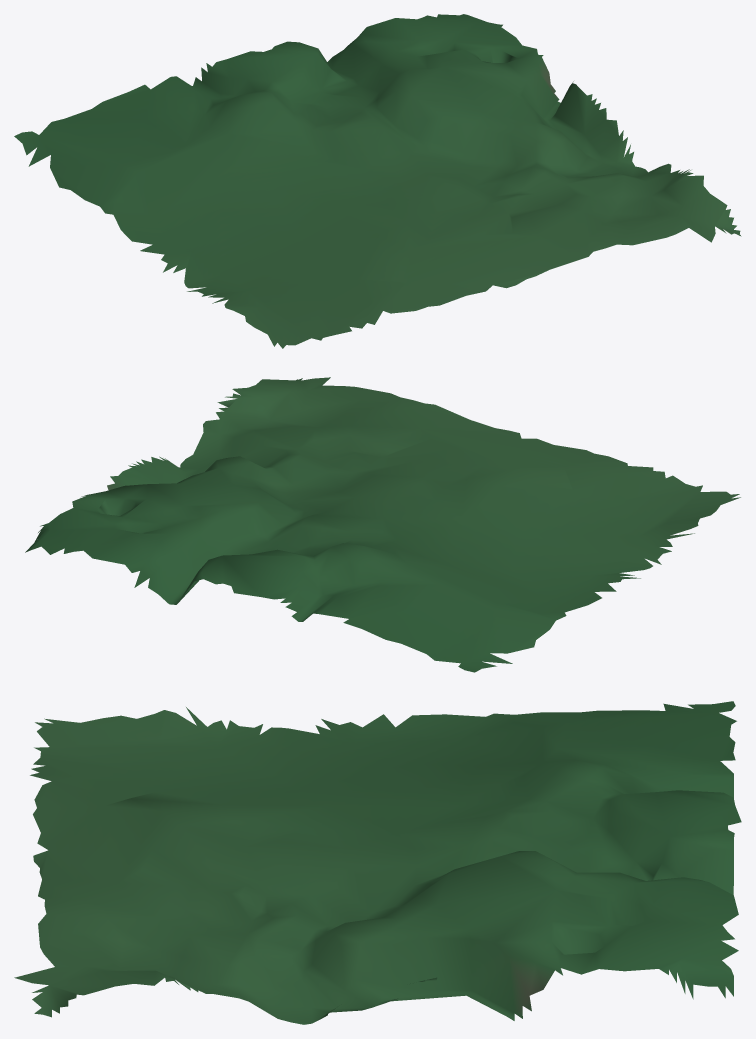
File: payo_land_xm1_y7_lod2.glb
The picture shows the model from 3 angles, top to bottom: view 1: azimuth 30°, elevation 25°; view 2: azimuth 150°, elevation 25°; view 3: azimuth 270°, elevation 25°; orthographic projection. The views are drawn at different scales.
Parts seen in each view (by area): view 1: payo_land_xm1_y7; view 2: payo_land_xm1_y7; view 3: payo_land_xm1_y7.
Part boxes in pixels (bbox=[...]): payo_land_xm1_y7: bbox=[14, 14, 741, 348]; payo_land_xm1_y7: bbox=[25, 377, 740, 672]; payo_land_xm1_y7: bbox=[14, 701, 741, 1024].
Size of the model in its own units: 267 by 32.01 by 269.
